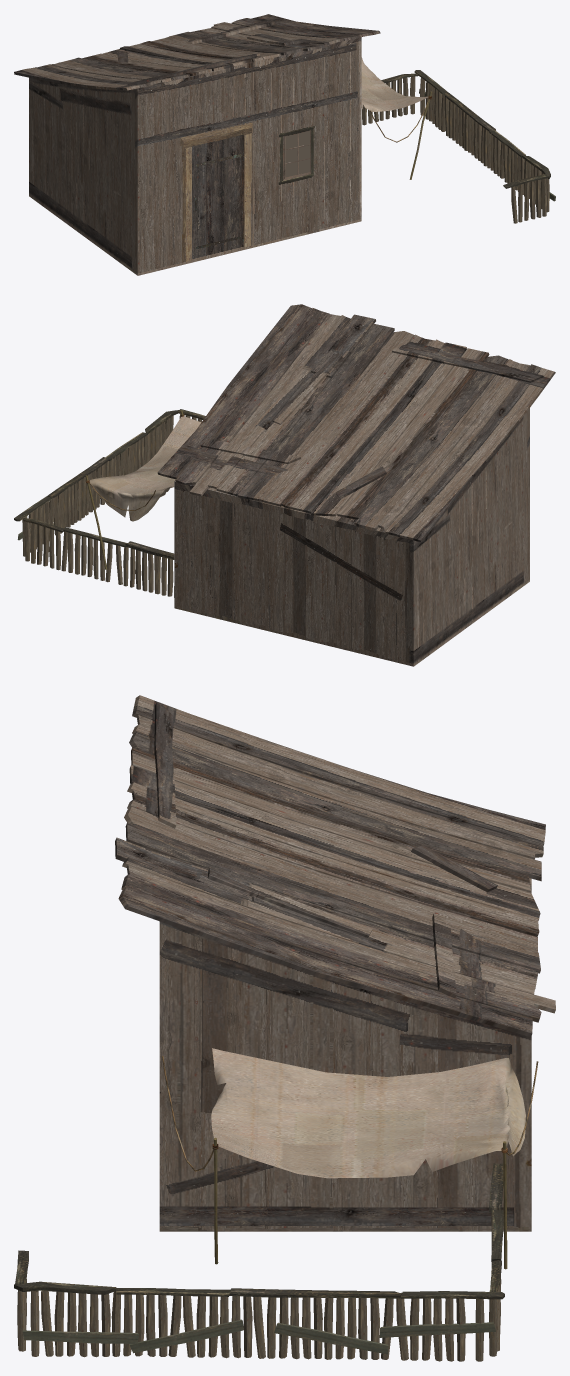
File: House_low.fbx
3 views of the same model, one above another, from view 1: azimuth 30°, elevation 25°; view 2: azimuth 150°, elevation 25°; view 3: azimuth 270°, elevation 25° (orthographic). The views are drawn at different scales.
Parts seen in each view (by area): view 1: House_low; view 2: House_low; view 3: House_low.
Boxes of the visible parts, <box> form: House_low: <box>14,14,555,275</box>; House_low: <box>14,304,555,666</box>; House_low: <box>14,695,555,1354</box>.
Size of the model in its own units: 8.02 by 5.51 by 3.79.
